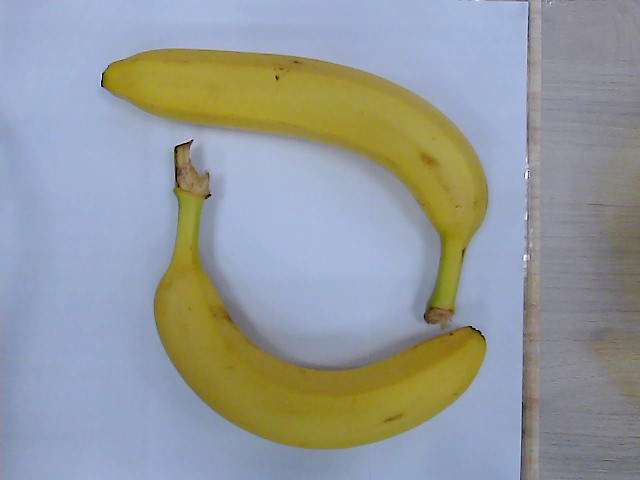fresh_banana: (103, 49, 490, 322), (154, 141, 485, 449)
